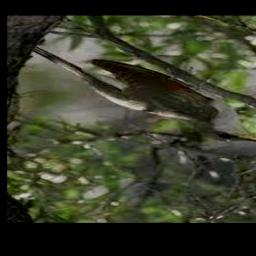Cuckoo: (32, 47, 256, 143)
